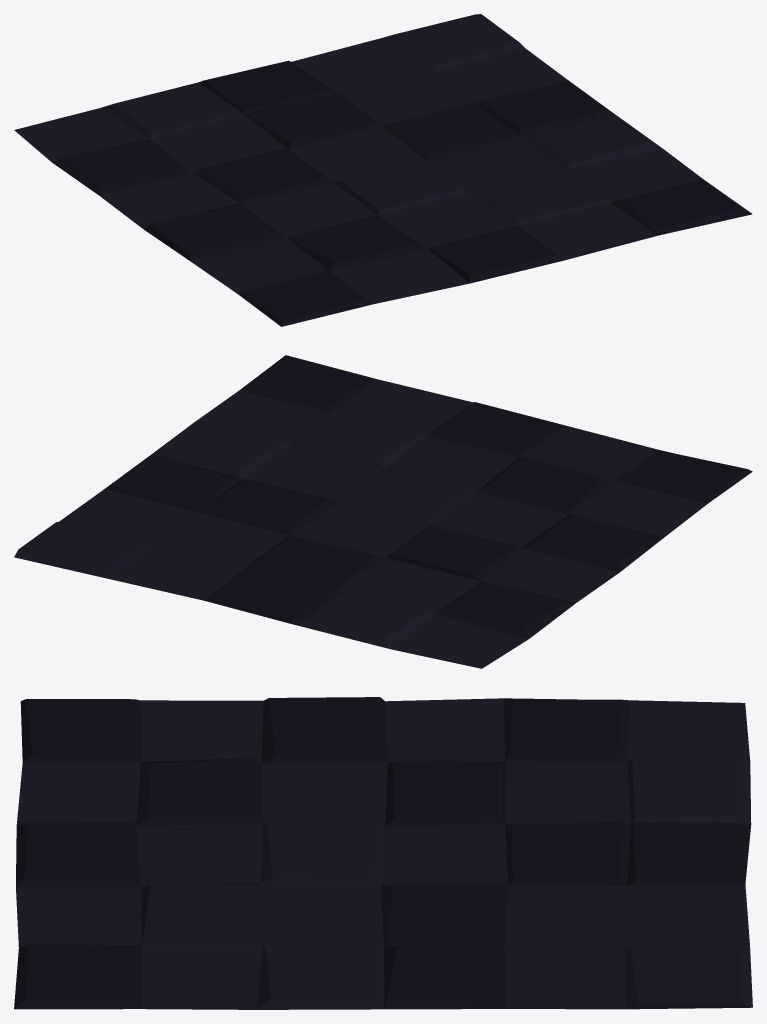
File: floor 1.glb
3 renders of one model, top to bottom at view 1: azimuth 30°, elevation 25°; view 2: azimuth 150°, elevation 25°; view 3: azimuth 270°, elevation 25°, orthographic. The views are drawn at different scales.
Parts seen in each view (by area): view 1: floor 1; view 2: floor 1; view 3: floor 1.
Boxes of the visible parts, <box> form: floor 1: <box>14,14,752,326</box>; floor 1: <box>14,355,752,668</box>; floor 1: <box>14,697,752,1009</box>.
Bounding box in the file's own units: 6.04 × 0.0679 × 6.09.
1 material, 1 textured.
